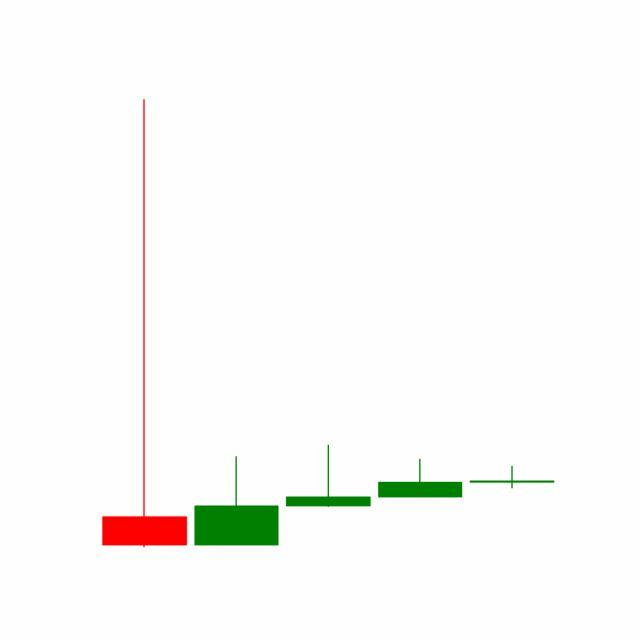Gravestone Doji: (466, 465, 559, 490)
